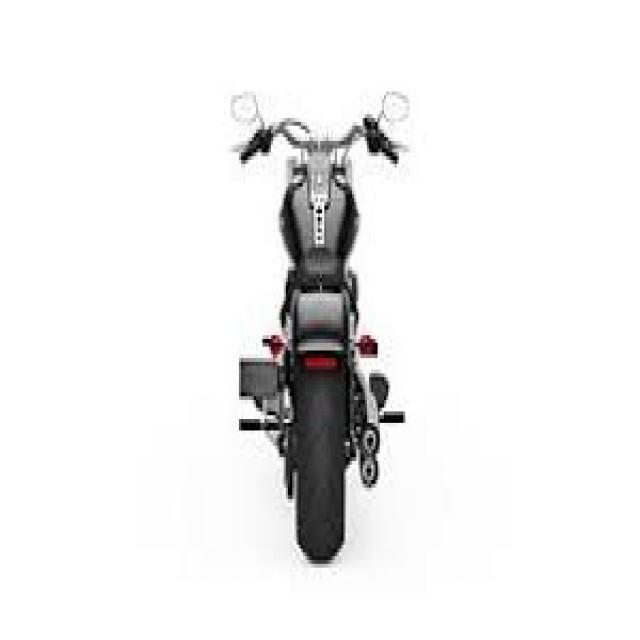Bike: (224, 82, 412, 565)
